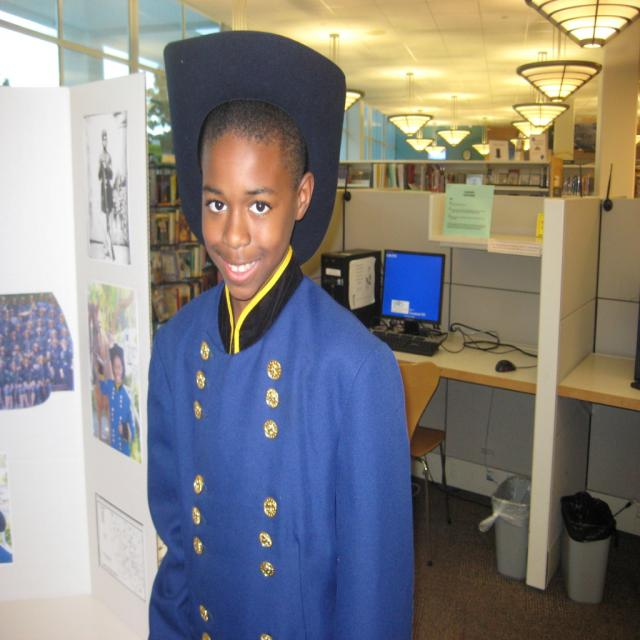chair: (401, 358, 451, 534)
desk: (367, 320, 538, 397)
keyboard: (371, 330, 442, 358)
mouse: (495, 360, 516, 372)
person: (144, 51, 413, 640)
tv: (380, 250, 446, 327), (320, 251, 382, 325)
